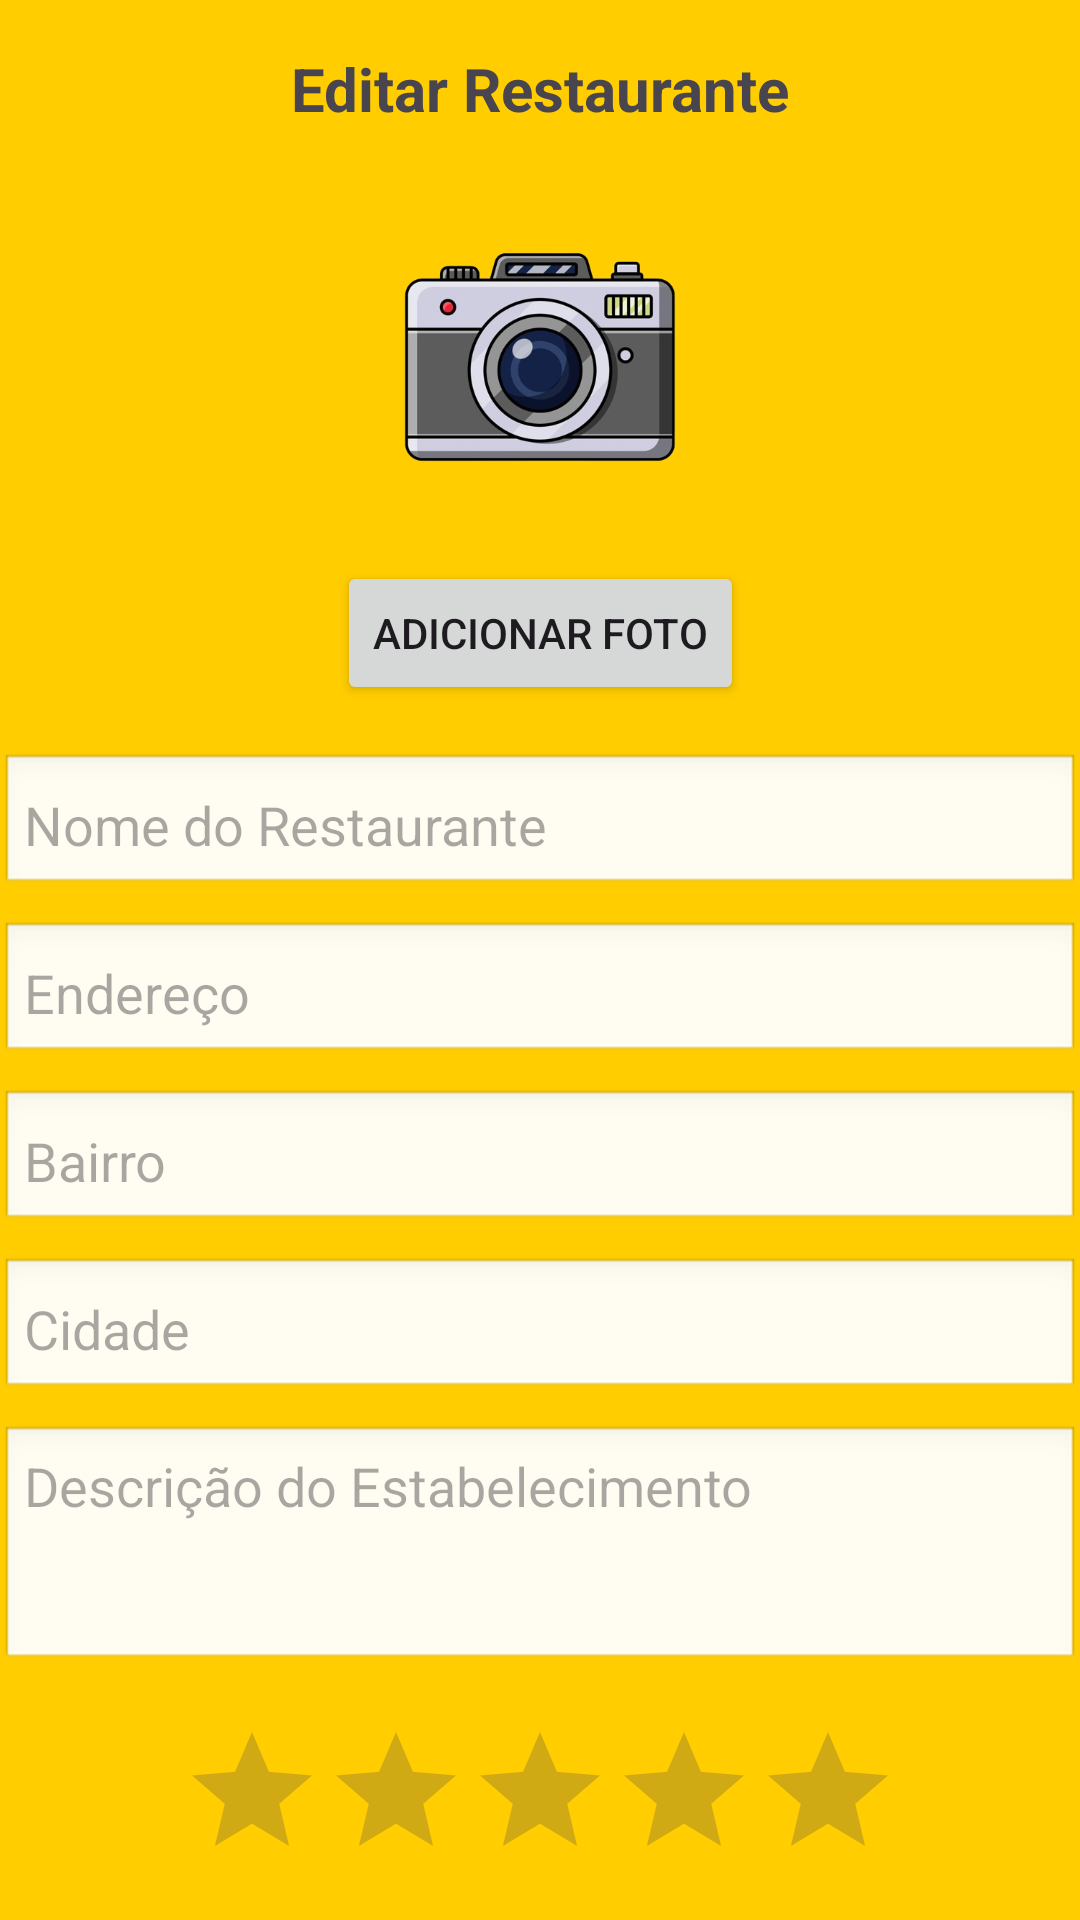

Where to tap for icons on this 1080 × 1920 app screen, as point (x, y):
Foto do Restaurante: point (539, 357)
